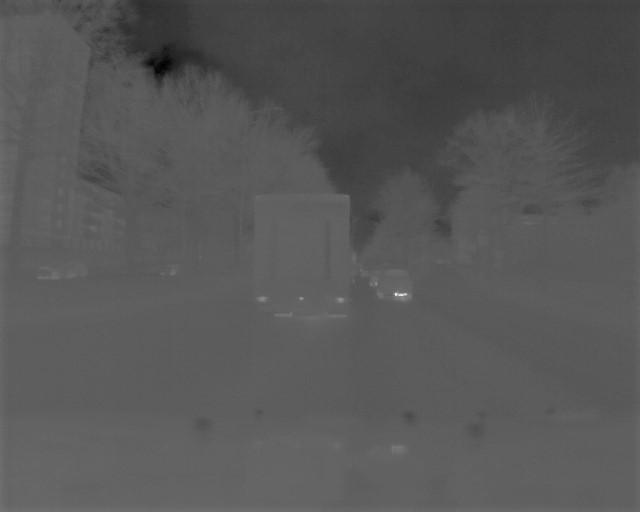car: (249, 189, 359, 323), (374, 263, 416, 302)
